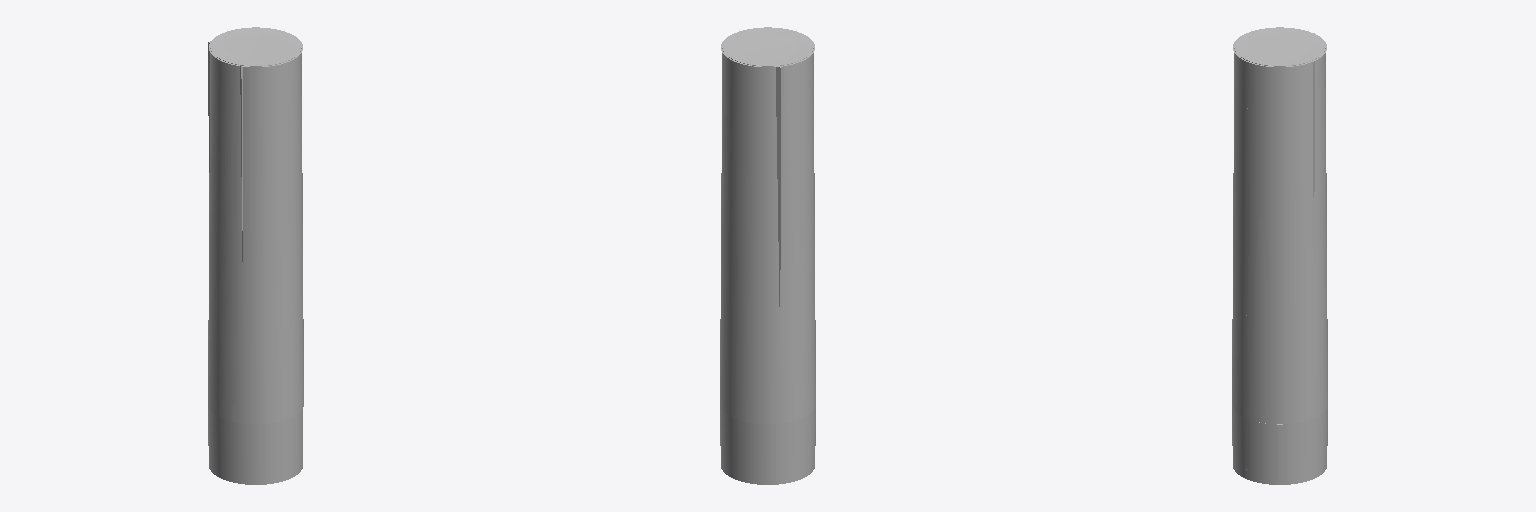
File: long_cone.obj
3 renders of one model, left to right at view 1: azimuth 30°, elevation 25°; view 2: azimuth 150°, elevation 25°; view 3: azimuth 270°, elevation 25°, orthographic.
Parts seen in each view (by area): view 1: Cube; view 2: Cube; view 3: Cube.
Boxes of the visible parts, box(x1,y1,x2,y2) form: Cube: box(208, 27, 303, 484); Cube: box(720, 27, 815, 484); Cube: box(1232, 27, 1327, 484).
Bounding box in the file's own units: 2.88 × 13.81 × 2.88.